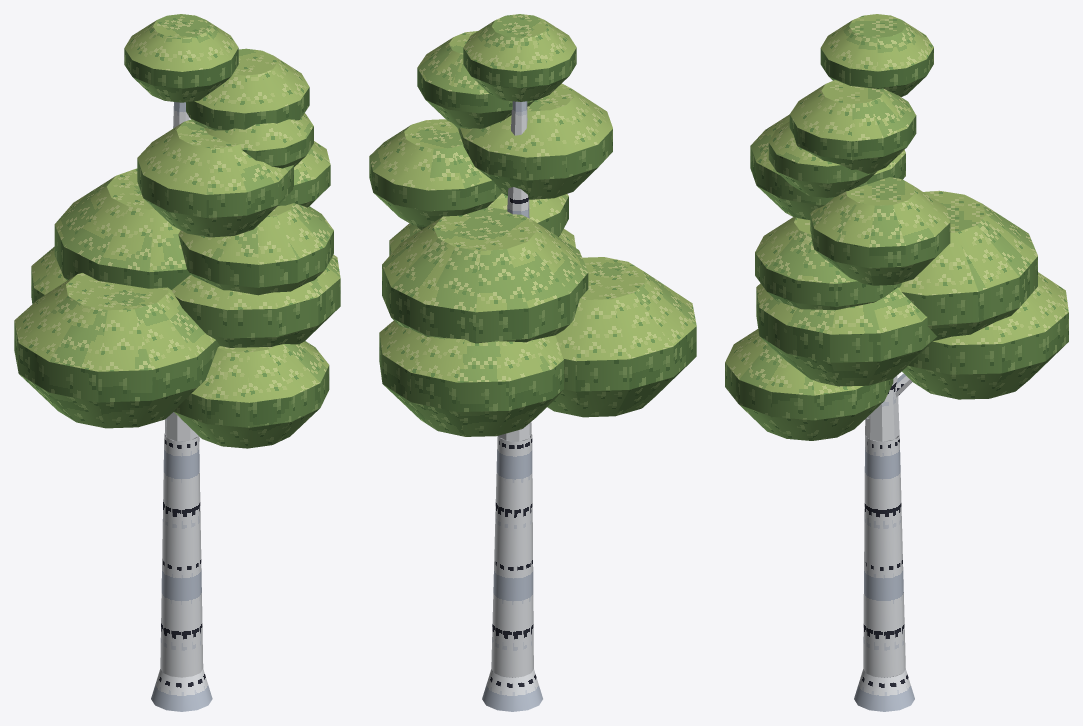
File: birch_2.glb
3 renders of one model, left to right at view 1: azimuth 30°, elevation 25°; view 2: azimuth 150°, elevation 25°; view 3: azimuth 270°, elevation 25°, orthographic.
Visible parts, largest first — view 1: birch_3; view 2: birch_3; view 3: birch_3.
Part boxes in pixels (x1,y1,x2,y2): birch_3: (14,14,340,711); birch_3: (369,14,696,711); birch_3: (725,14,1068,711).
Size of the model in its own units: 2.58 by 5.56 by 2.58.
Materials: 3 (3 with a texture image).
